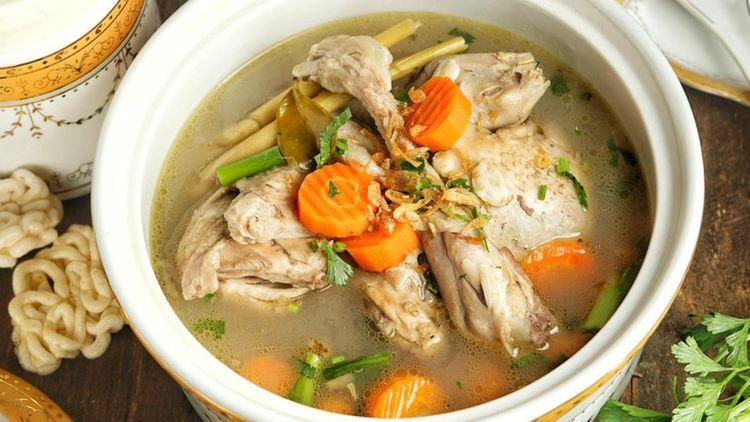buah_sayur_vitA: (312, 173, 363, 232), (379, 376, 428, 419), (416, 85, 454, 140)
daging: (432, 151, 525, 275), (197, 200, 292, 292)
